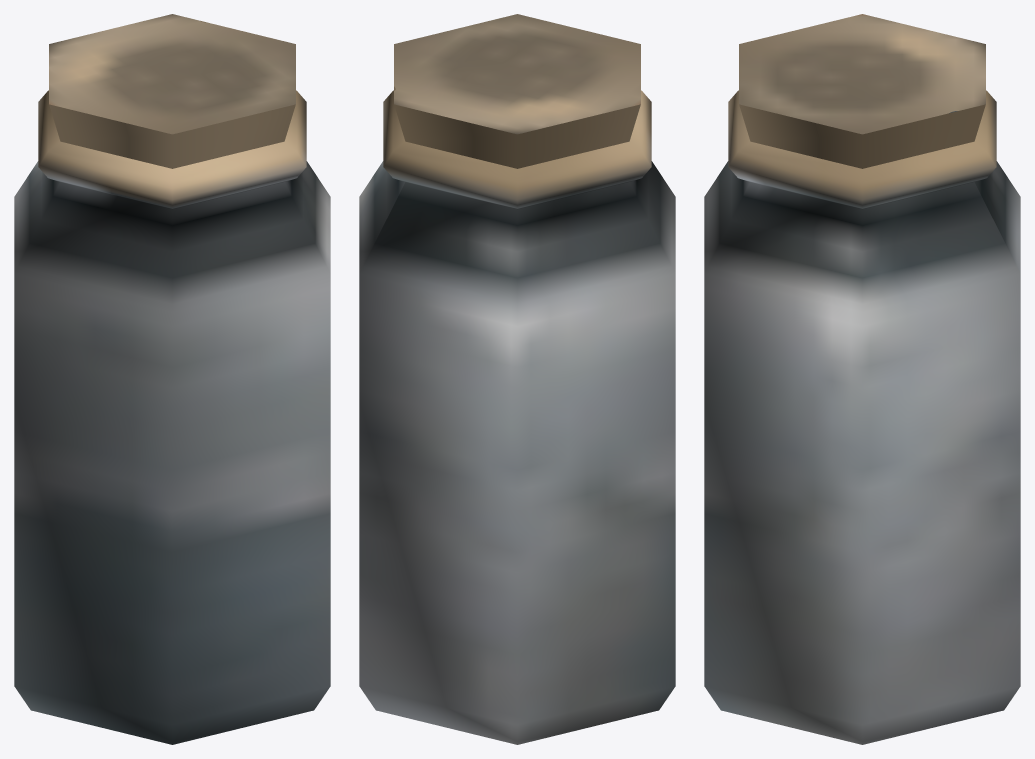
Rendered from flash_powder.FBX.
The picture shows the model from 3 angles, left to right: view 1: azimuth 30°, elevation 25°; view 2: azimuth 150°, elevation 25°; view 3: azimuth 270°, elevation 25°; orthographic projection.
Visible parts, largest first — view 1: InventoryItem_FlashPowderBottle; view 2: InventoryItem_FlashPowderBottle; view 3: InventoryItem_FlashPowderBottle.
Boxes of the visible parts, left/top/right/bottom form: InventoryItem_FlashPowderBottle: left=14, top=14, right=330, bottom=744; InventoryItem_FlashPowderBottle: left=359, top=14, right=675, bottom=744; InventoryItem_FlashPowderBottle: left=704, top=14, right=1020, bottom=744.
Bounding box in the file's own units: 76.03 × 65.84 × 138.
1 material, 1 textured.
